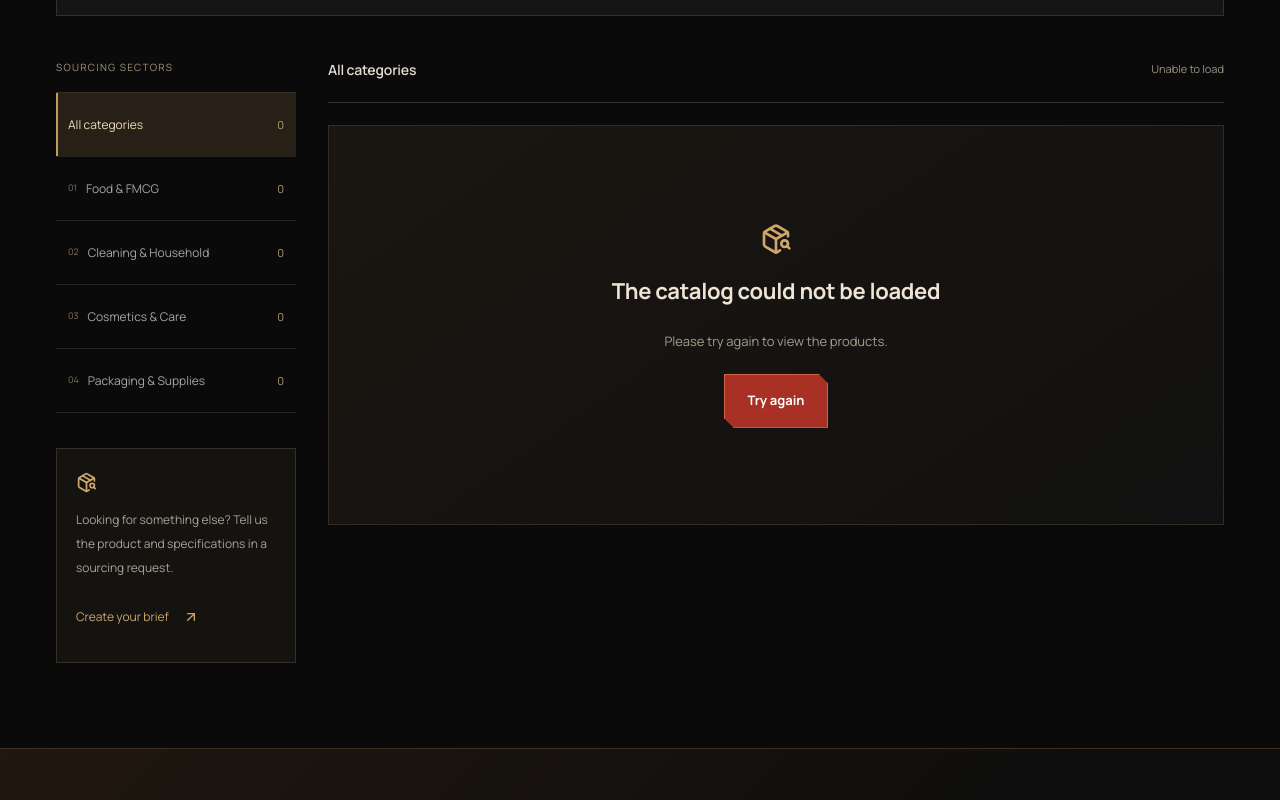
Test case: LOUREX catalog presentation and preserved sourcing links › handles a failed catalog read and retries without changing the service
(page scrolled)
Expected: the message that starts with "The catalog could not be loaded" is shown, [612, 276, 940, 306]
Click the button "Try again" at (776, 401), box [724, 374, 828, 428]
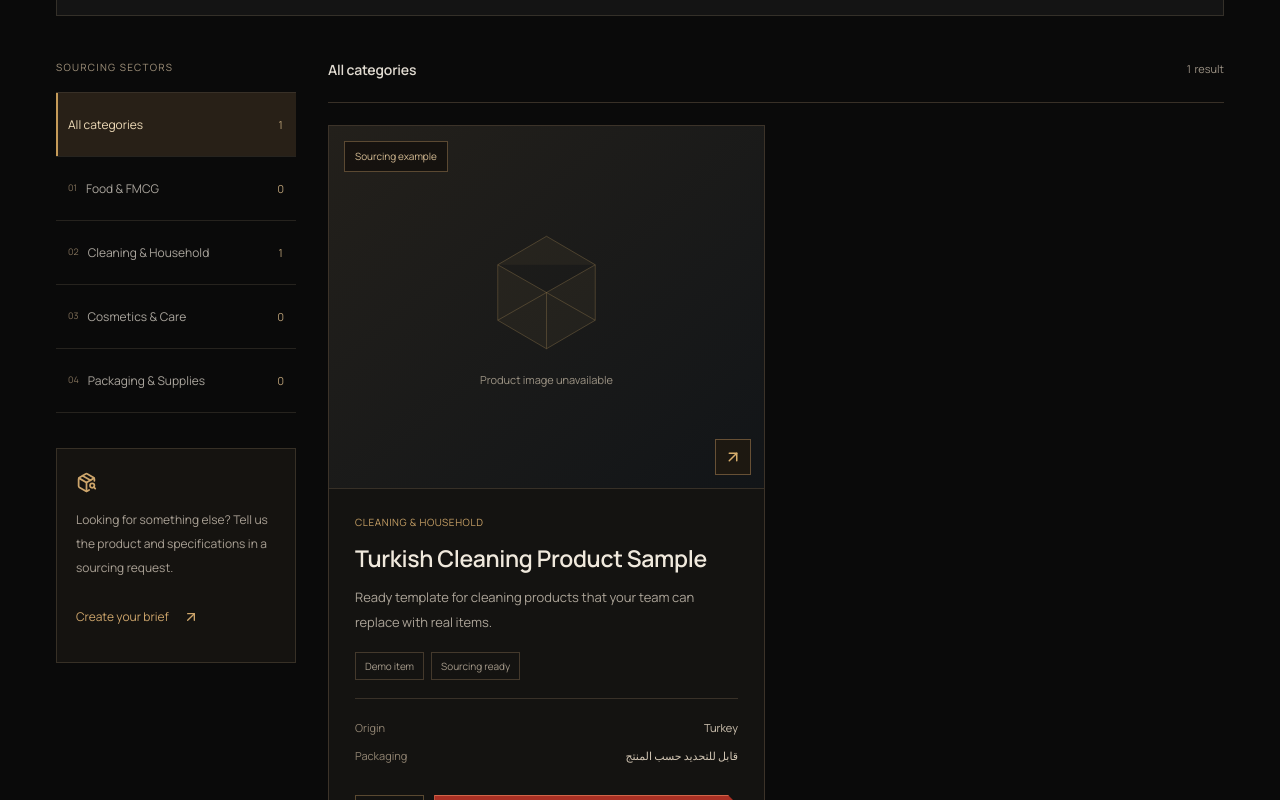
Expected: the link "Turkish Cleaning Product Sample" is shown, [355, 542, 707, 574]
